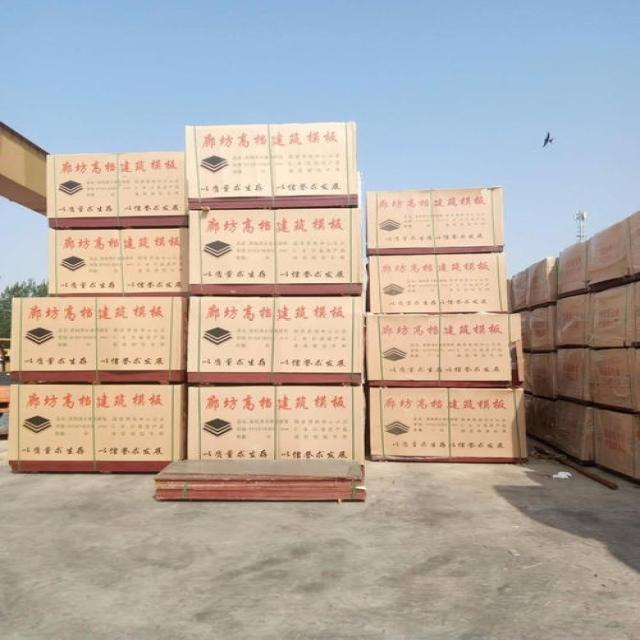box: (6, 384, 188, 474), (187, 294, 364, 385), (188, 206, 361, 295), (186, 121, 358, 210), (10, 297, 188, 382), (187, 386, 366, 466), (369, 387, 529, 463), (365, 314, 526, 387), (46, 150, 187, 229), (49, 226, 188, 297), (367, 185, 507, 254), (367, 252, 508, 312), (586, 216, 635, 291), (589, 280, 640, 348), (593, 407, 640, 480), (590, 348, 640, 412), (552, 400, 594, 461), (554, 292, 590, 348), (557, 239, 591, 298), (556, 348, 591, 403), (526, 256, 559, 310), (522, 303, 556, 351), (529, 351, 556, 400), (530, 395, 556, 443), (628, 212, 640, 278), (512, 268, 527, 311)
